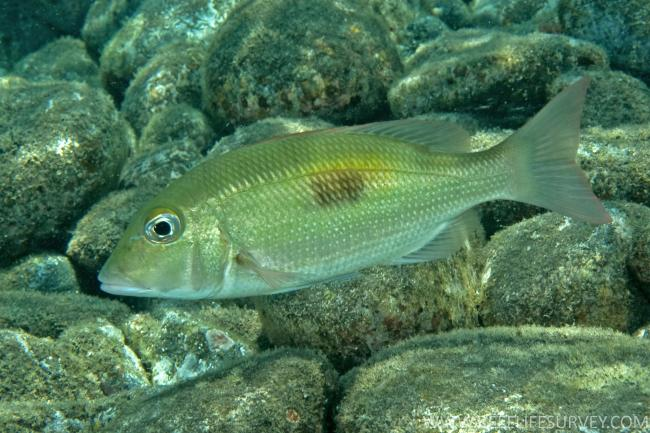fish: (96, 75, 613, 299)
